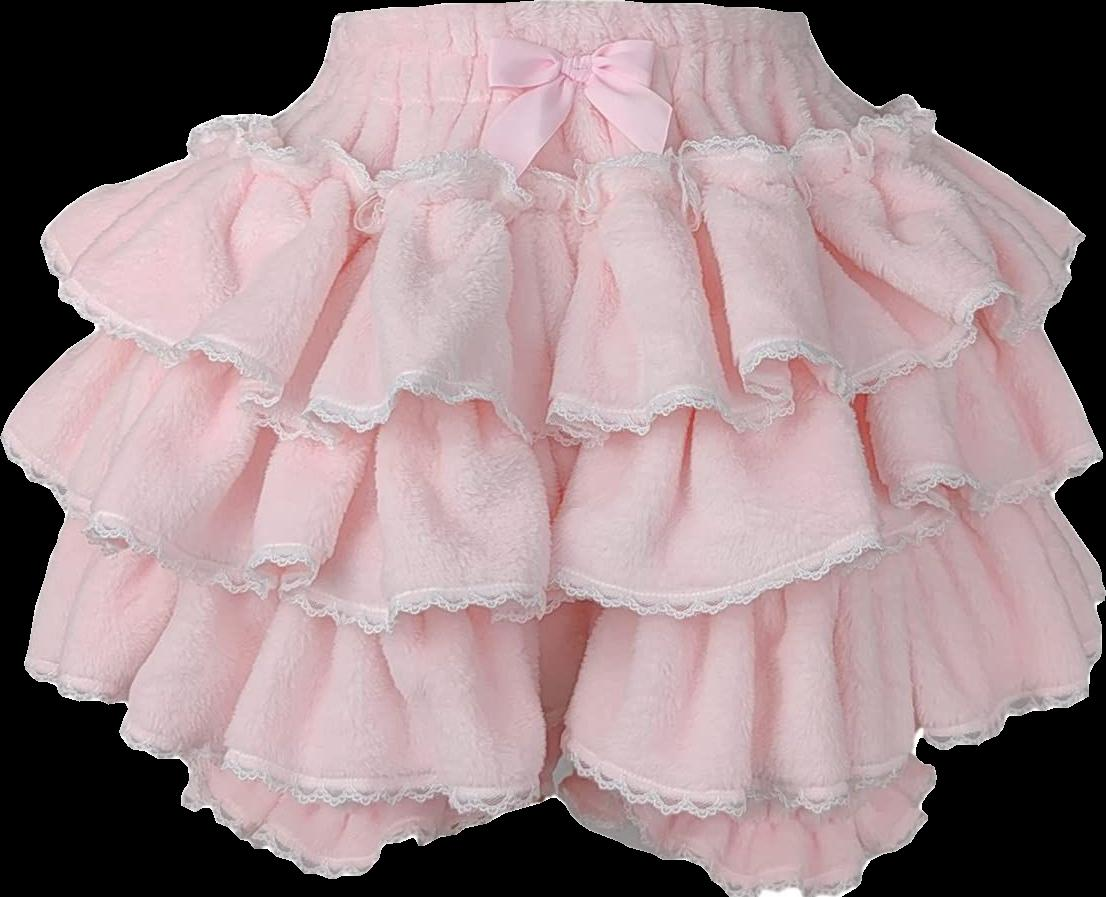Hemline: (42, 229, 1085, 441), (0, 427, 1091, 625), (22, 650, 1105, 807), (182, 759, 943, 896)
Waistline: (206, 127, 930, 219), (332, 0, 810, 25)
